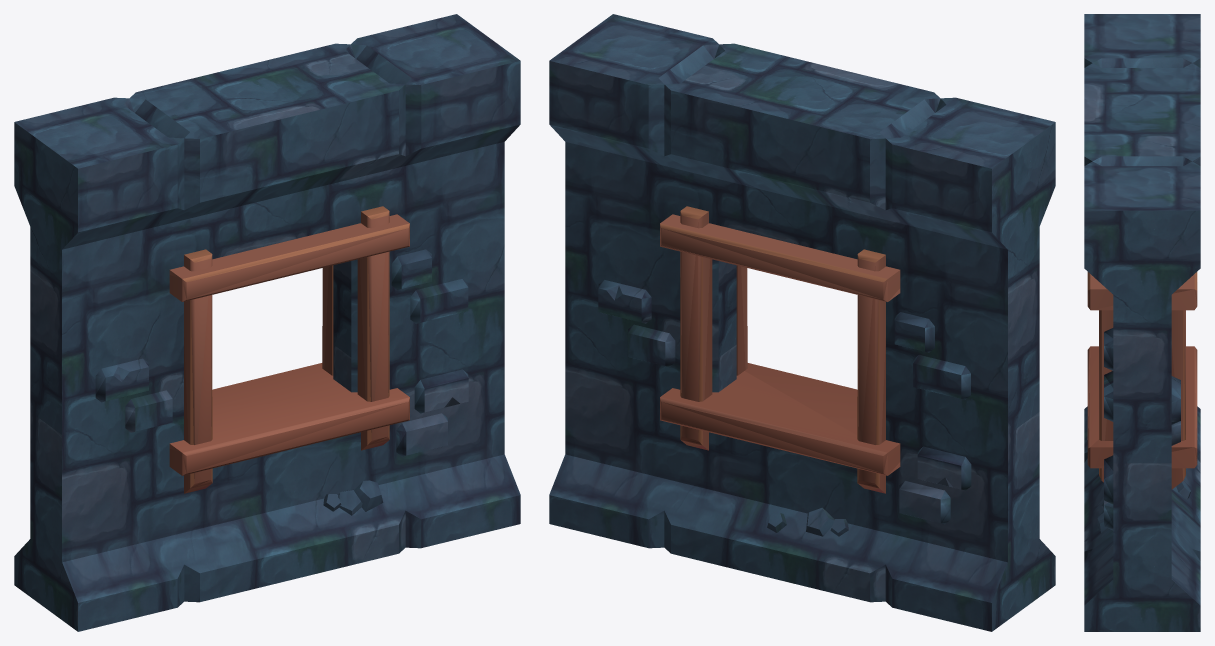
Rendered from wall_window_open.gltf.
The picture shows the model from 3 angles, left to right: view 1: azimuth 30°, elevation 25°; view 2: azimuth 150°, elevation 25°; view 3: azimuth 270°, elevation 25°; orthographic projection. The views are drawn at different scales.
Parts seen in each view (by area): view 1: wall_window_open; view 2: wall_window_open; view 3: wall_window_open.
Boxes of the visible parts, x1,y1,x2,y2 form: wall_window_open: [14, 14, 520, 631]; wall_window_open: [549, 14, 1055, 631]; wall_window_open: [1084, 14, 1200, 631].
Size of the model in its own units: 4 by 4 by 1.
7 materials, 1 textured.
